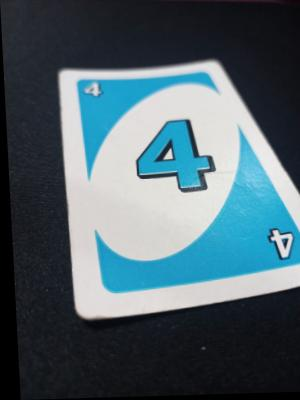blue: (70, 75, 238, 293)
num_4: (257, 229, 296, 264), (75, 81, 105, 104)
